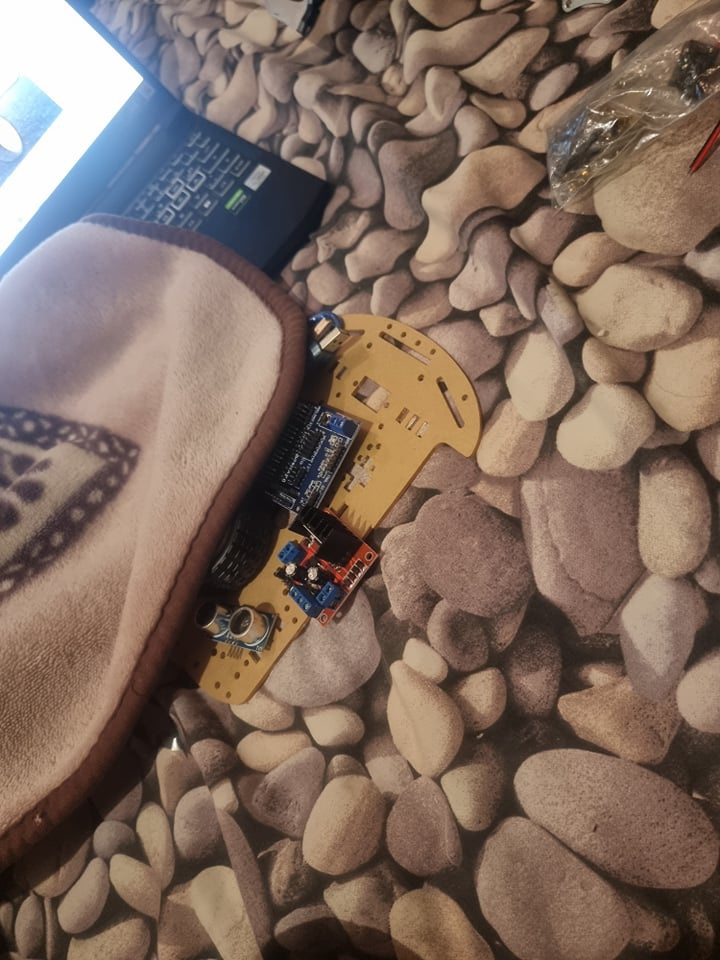5V EXPANSION: (258, 400, 363, 512)
MOTOR: (270, 508, 382, 631)
SENSOR: (187, 605, 280, 655)
